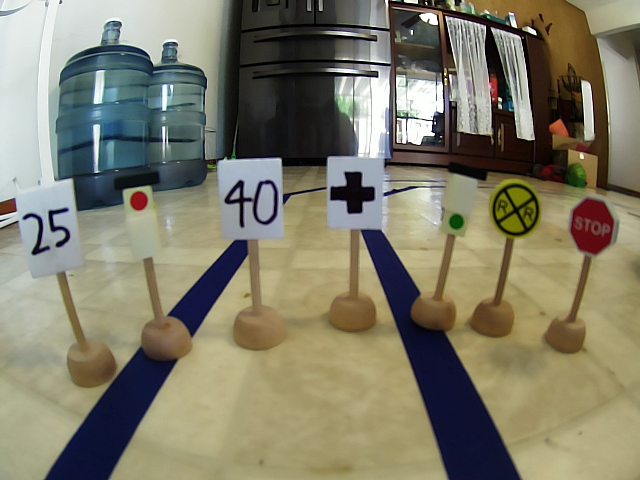25: (15, 177, 85, 278)
40: (216, 160, 286, 240)
green: (442, 164, 484, 240)
plus: (326, 157, 386, 230)
rail: (489, 178, 545, 239)
red: (113, 171, 167, 260)
stop: (566, 193, 625, 260)
